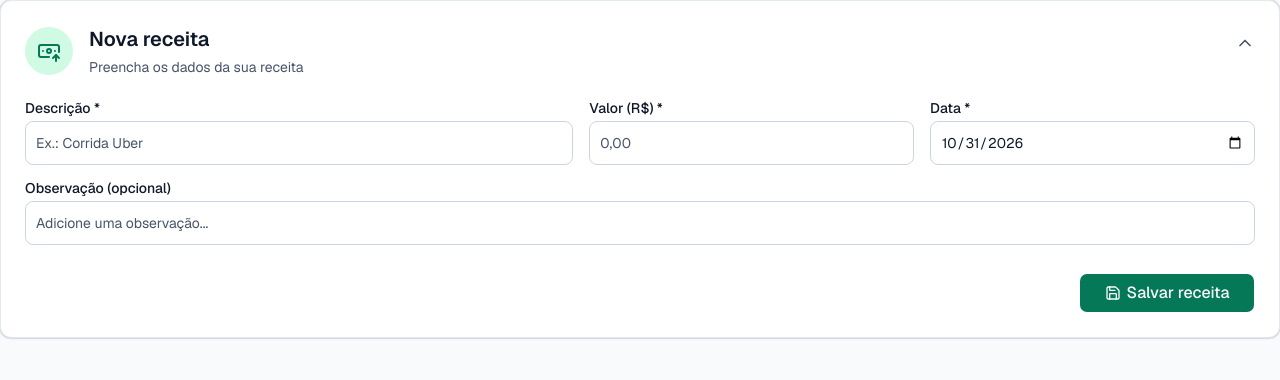
IncomeForm › should validate future date before submitting
Type "Corrida Nova" into the field labelled "Descrição *". click: (299,143)
box: 25,121 -> 573,165
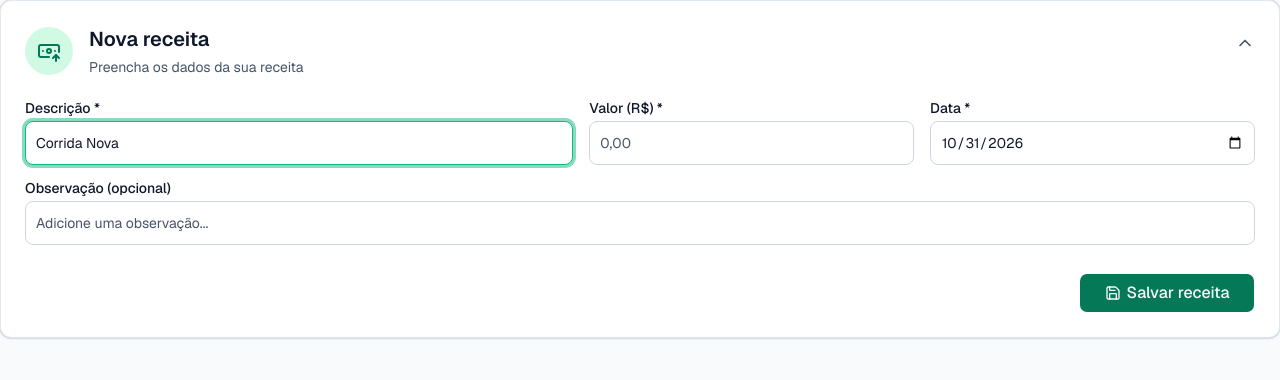
Type "100" into the field labelled "Valor (R$) *". click: (752,143)
box: 589,121 -> 914,165
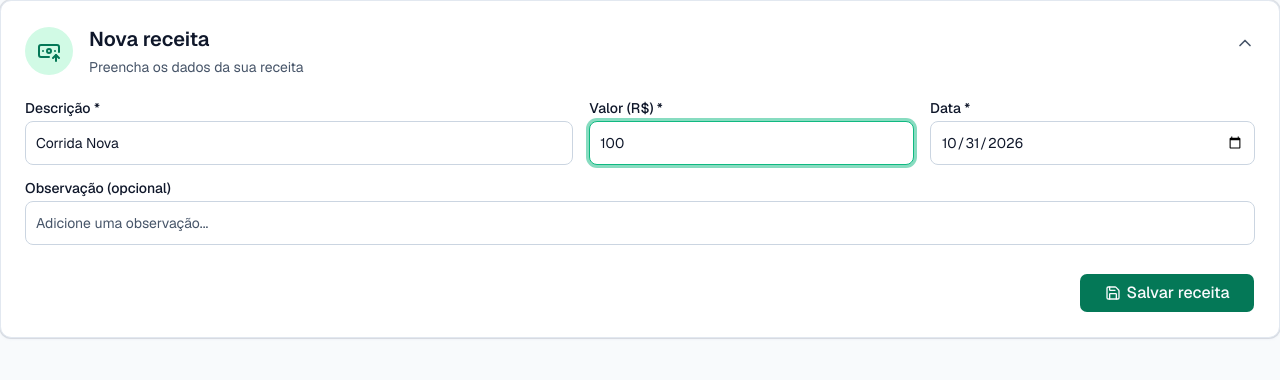
Type "2999-01-01" into the date field labelled "Data *". click: (1093,143)
box: 930,121 -> 1255,165
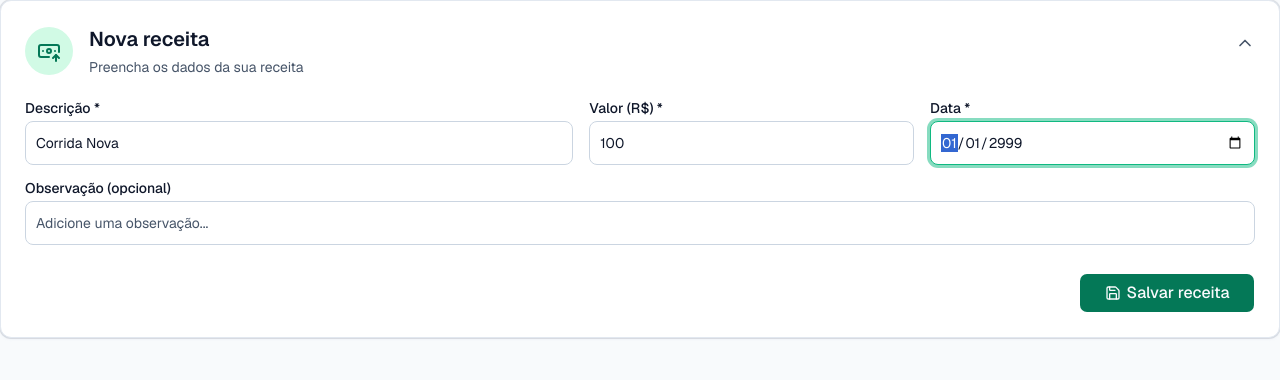
Click the button "Salvar receita". click: (1167,293)
box: 1079,273 -> 1255,313
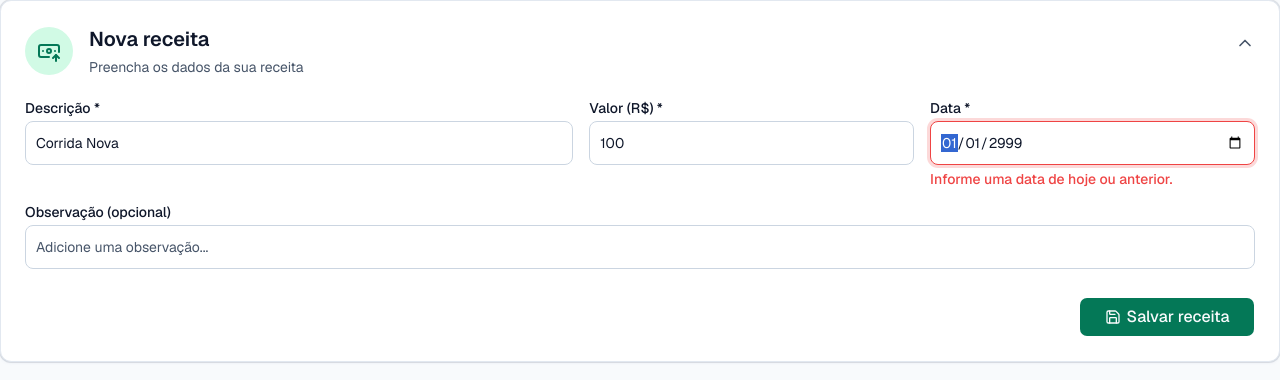
expect the text "Informe uma data de hoje ou anterior." is shown: met, box 930,170 -> 1172,188
